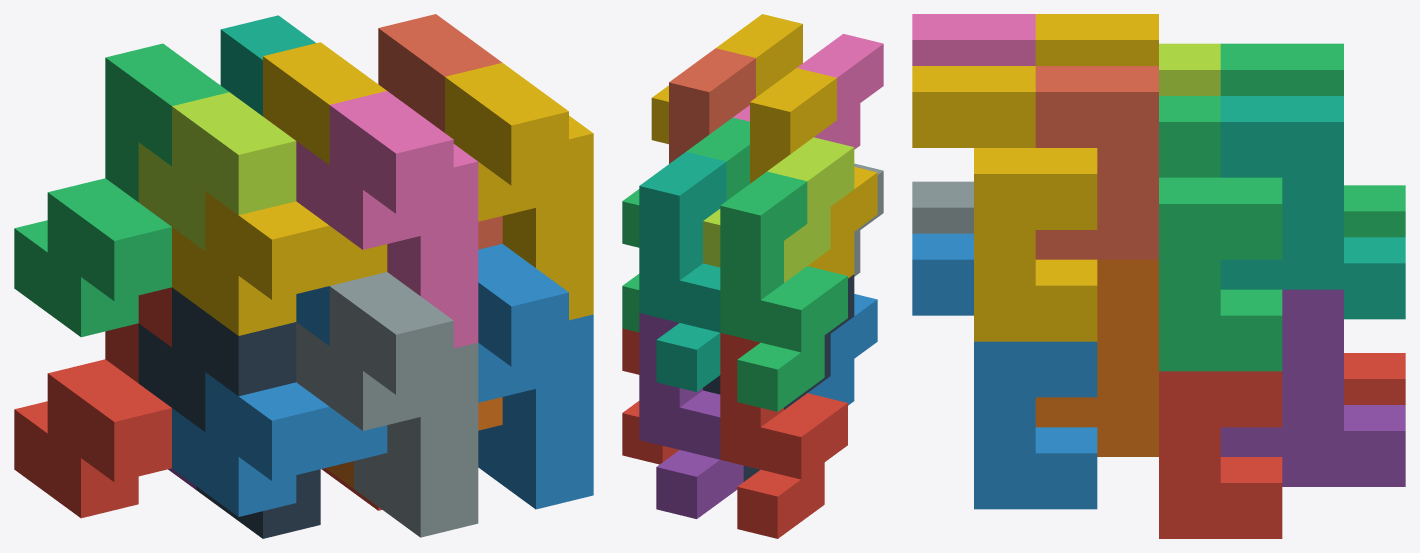
Rendered from tiling.obj.
The picture shows the model from 3 angles, left to right: view 1: azimuth 30°, elevation 25°; view 2: azimuth 150°, elevation 25°; view 3: azimuth 270°, elevation 25°; orthographic projection. The views are drawn at different scales.
Visible parts, largest first — view 1: copy_2_domain_2, copy_1_domain_3, copy_2_domain_4, copy_1_domain_4, copy_2_domain_6, copy_2_domain_8, copy_1_domain_1, copy_1_domain_2, copy_2_domain_3, copy_2_domain_1, copy_1_domain_8, copy_1_domain_7 (+1 smaller); view 2: copy_1_domain_3, copy_1_domain_7, copy_1_domain_1, copy_1_domain_5, copy_1_domain_4, copy_2_domain_3, copy_1_domain_8, copy_2_domain_4, copy_2_domain_8, copy_2_domain_7, copy_1_domain_2, copy_2_domain_5 (+2 smaller); view 3: copy_2_domain_8, copy_2_domain_7, copy_2_domain_6, copy_1_domain_7, copy_1_domain_5, copy_2_domain_5, copy_1_domain_8, copy_1_domain_6, copy_1_domain_3, copy_1_domain_4, copy_2_domain_4, copy_2_domain_2 (+2 smaller).
Part boxes in pixels (x1,y1,x2,y2): copy_2_domain_2: (296,272,478,537); copy_1_domain_3: (14,43,229,337); copy_2_domain_4: (296,91,478,348); copy_1_domain_4: (172,42,387,335); copy_2_domain_6: (478,244,593,509); copy_2_domain_8: (445,63,593,320); copy_1_domain_1: (14,287,171,518); copy_1_domain_2: (172,286,387,516); copy_2_domain_3: (138,92,296,250); copy_2_domain_1: (138,287,320,538); copy_1_domain_8: (378,14,502,249); copy_1_domain_7: (220,15,315,116); copy_1_domain_3: (720,171,847,411); copy_1_domain_7: (639,152,726,391); copy_1_domain_1: (720,333,847,538); copy_1_domain_5: (639,313,743,518); copy_1_domain_4: (750,68,877,278); copy_2_domain_3: (703,137,854,282); copy_1_domain_8: (669,48,755,163); copy_2_domain_4: (733,34,883,149); copy_2_domain_8: (651,14,802,144); copy_2_domain_7: (622,117,749,332); copy_1_domain_2: (808,294,877,405); copy_2_domain_5: (622,328,678,464); copy_2_domain_8: (912,66,1097,341); copy_2_domain_7: (1159,96,1282,371); copy_2_domain_6: (912,233,1097,509); copy_1_domain_7: (1220,96,1405,319); copy_1_domain_5: (1220,289,1405,486); copy_2_domain_5: (1159,371,1282,538); copy_1_domain_8: (1035,66,1158,259); copy_1_domain_6: (1035,259,1158,456); copy_1_domain_3: (1220,43,1405,237); copy_1_domain_4: (1035,14,1158,65); copy_2_domain_4: (912,14,1035,65); copy_2_domain_2: (912,181,973,233).
Bounding box in the file's own units: 6 × 8 × 8.
